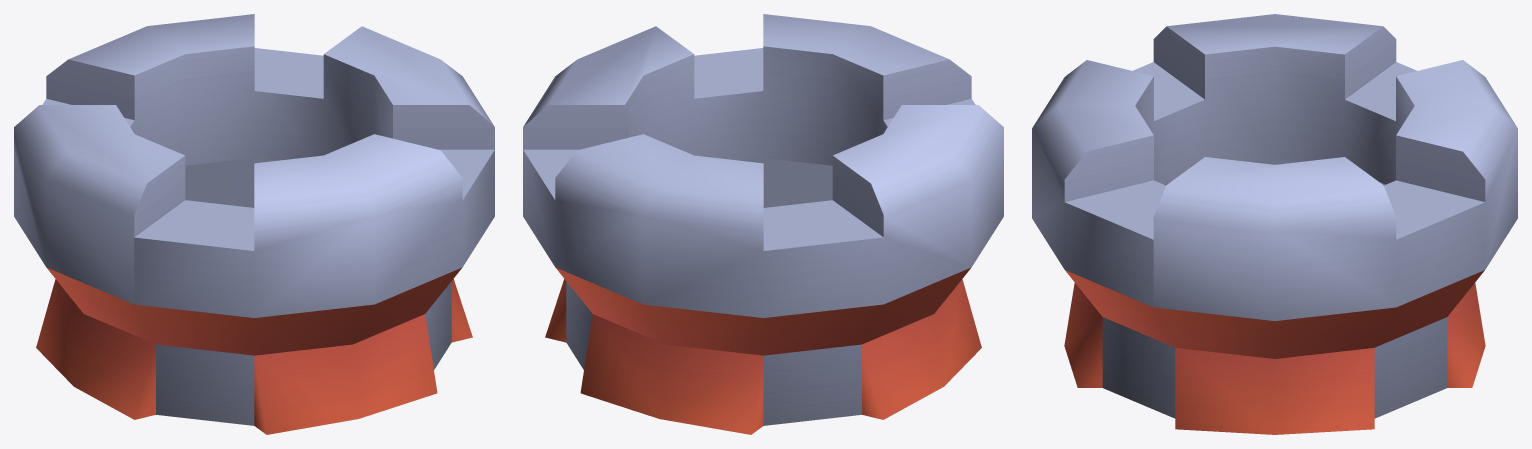
Rendered from tower-round-top-c.fbx.
3 views of the same model, side by side, from view 1: azimuth 30°, elevation 25°; view 2: azimuth 150°, elevation 25°; view 3: azimuth 270°, elevation 25° (orthographic).
Visible parts, largest first — view 1: tower-round-top-c; view 2: tower-round-top-c; view 3: tower-round-top-c.
Boxes of the visible parts, bbox=[...] form: tower-round-top-c: bbox=[14, 14, 494, 434]; tower-round-top-c: bbox=[523, 14, 1003, 434]; tower-round-top-c: bbox=[1032, 14, 1517, 434].
Bounding box in the file's own units: 97.6 × 53.25 × 97.6.
